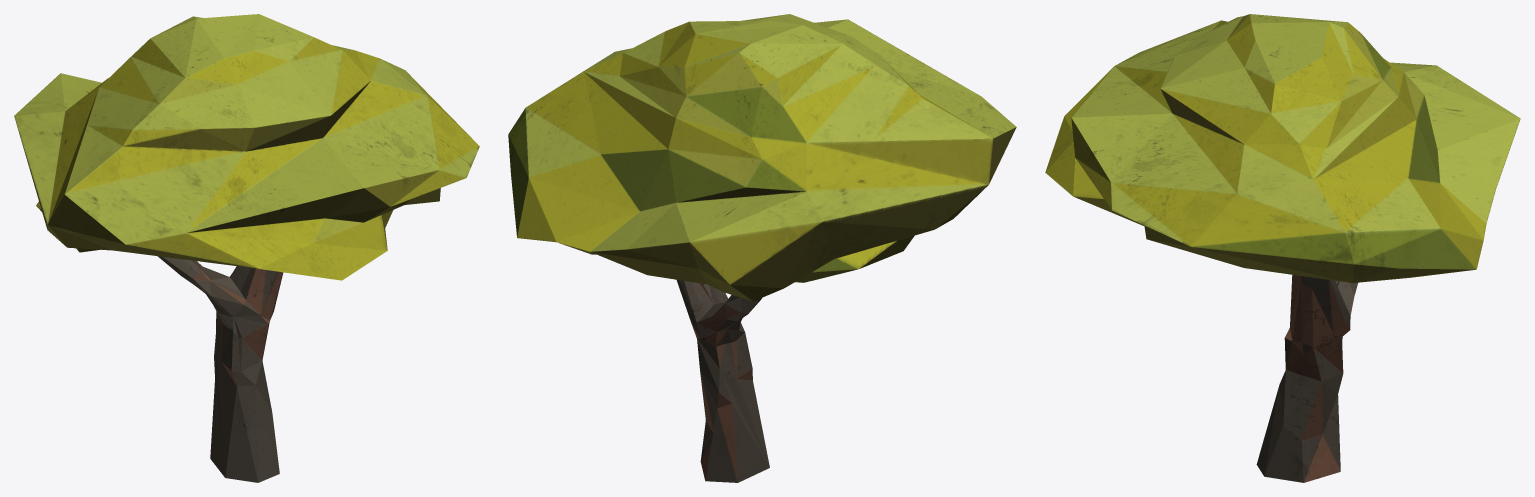
File: Tree_4.obj
3 renders of one model, left to right at view 1: azimuth 30°, elevation 25°; view 2: azimuth 150°, elevation 25°; view 3: azimuth 270°, elevation 25°, orthographic. The views are drawn at different scales.
Visible parts, largest first — view 1: Object.1; view 2: Object.1; view 3: Object.1.
Part boxes in pixels (<box>): Object.1: <box>14,14,479,482</box>; Object.1: <box>508,14,1016,482</box>; Object.1: <box>1045,14,1520,482</box>.
Bounding box in the file's own units: 150 × 150 × 150.
Materials: 1 (1 with a texture image).
